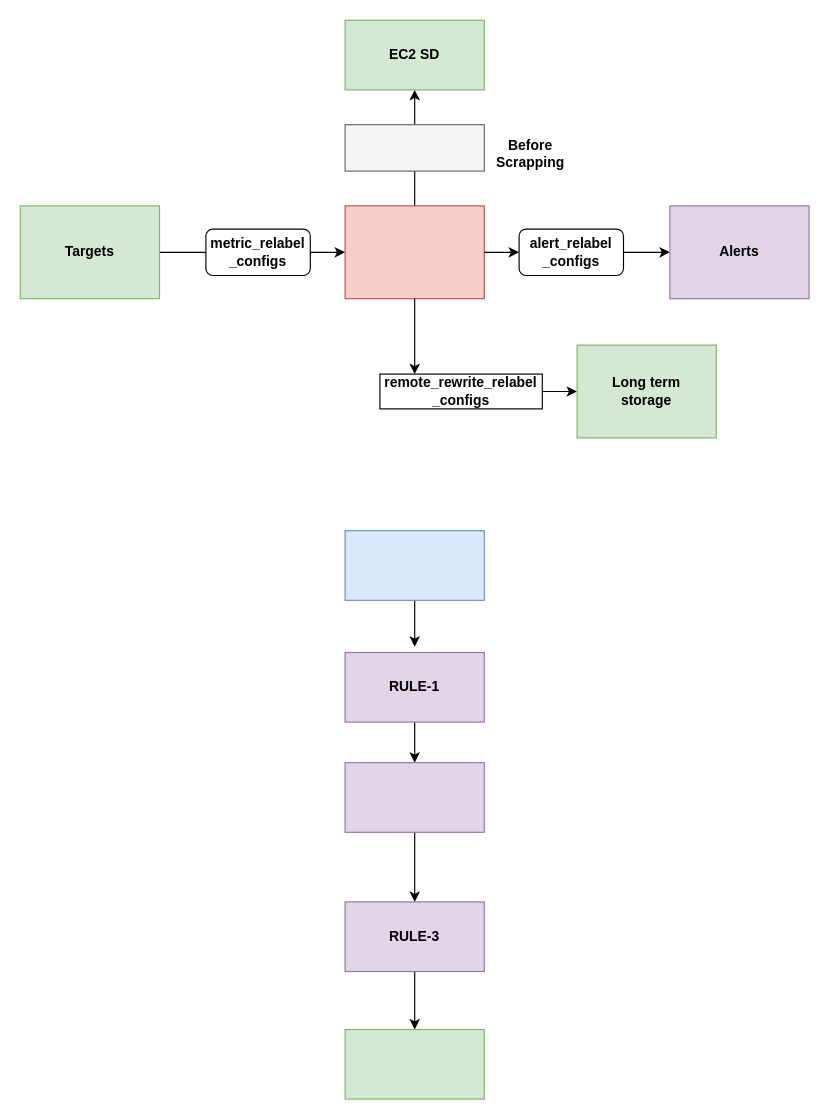
The diagram is 829 pixels wide and 1119 high, and some of its shapes have lost their labels. The centre of each missing label's shape, as x and y in pixels:
input: point (414, 565)
OUTPUT: point (414, 1063)
Prometheus: point (414, 252)
relabel_configs: point (414, 147)
RULE-2: point (414, 797)
